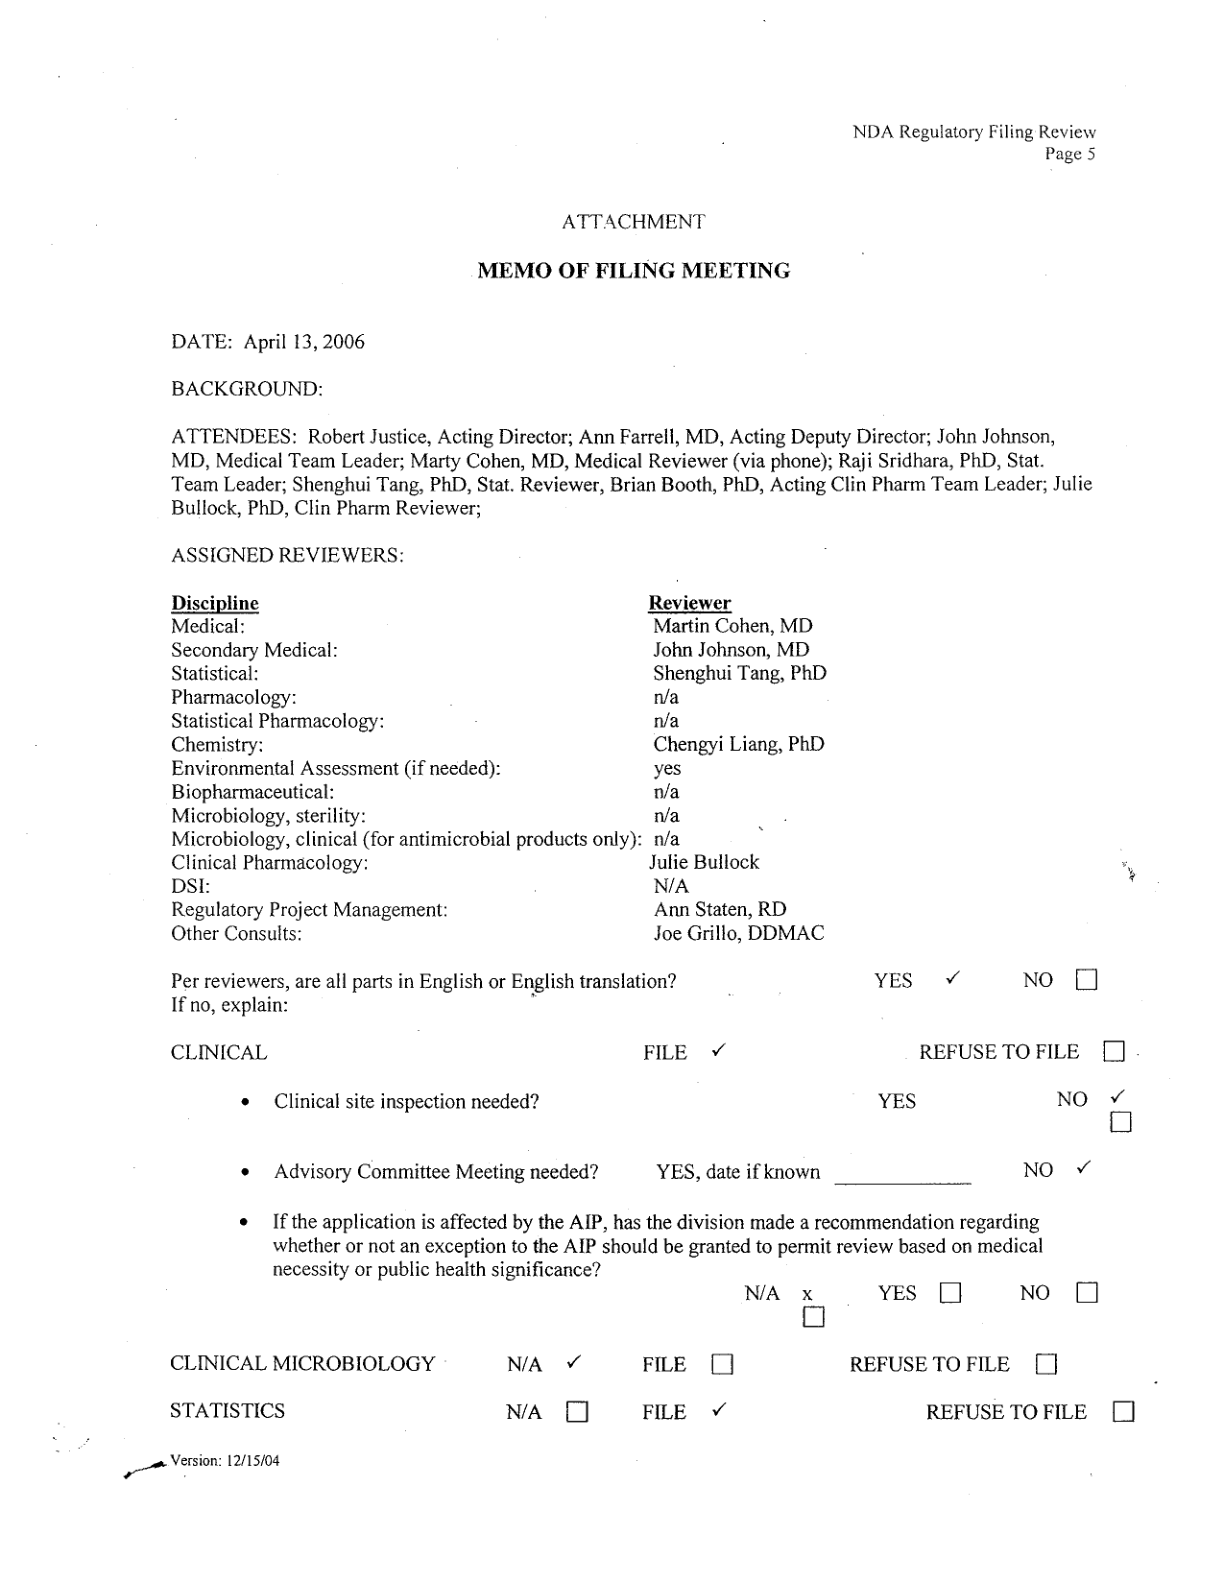nolines: (170, 589, 831, 946), (164, 1350, 1146, 1430)
